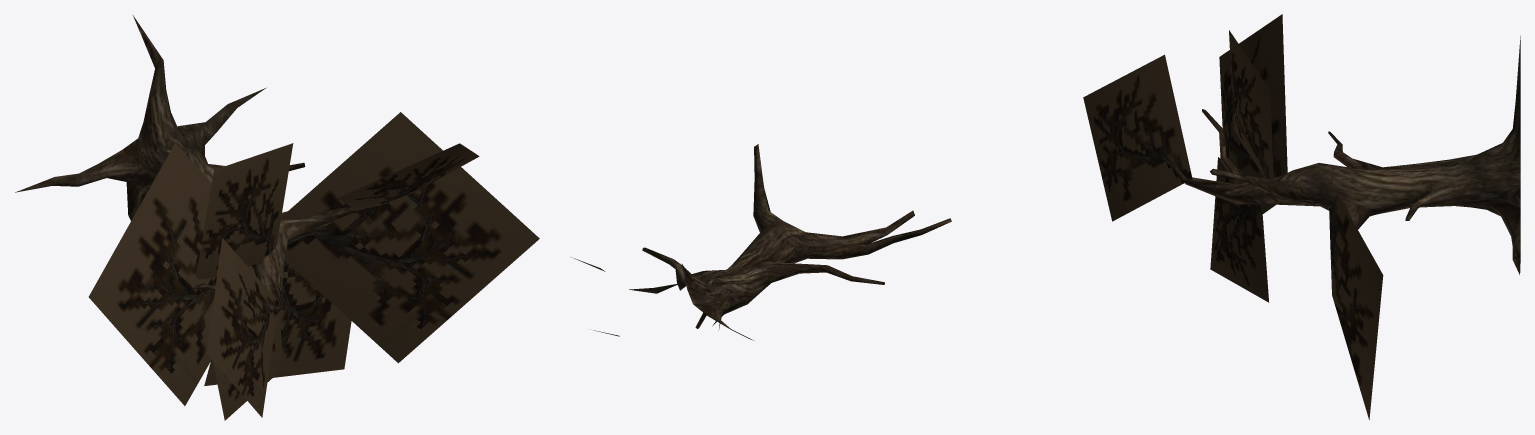
3 renders of one model, left to right at view 1: azimuth 30°, elevation 25°; view 2: azimuth 150°, elevation 25°; view 3: azimuth 270°, elevation 25°, orthographic. The views are drawn at different scales.
Parts seen in each view (by area): view 1: model_Object98; view 2: model_Object98; view 3: model_Object98.
Boxes of the visible parts, left/top/right/bottom form: model_Object98: left=15, top=15, right=539, bottom=420; model_Object98: left=572, top=144, right=951, bottom=340; model_Object98: left=1083, top=14, right=1520, bottom=419.
Bounding box in the file's own units: 4.67 × 3.47 × 4.24.
2 materials, 2 textured.
